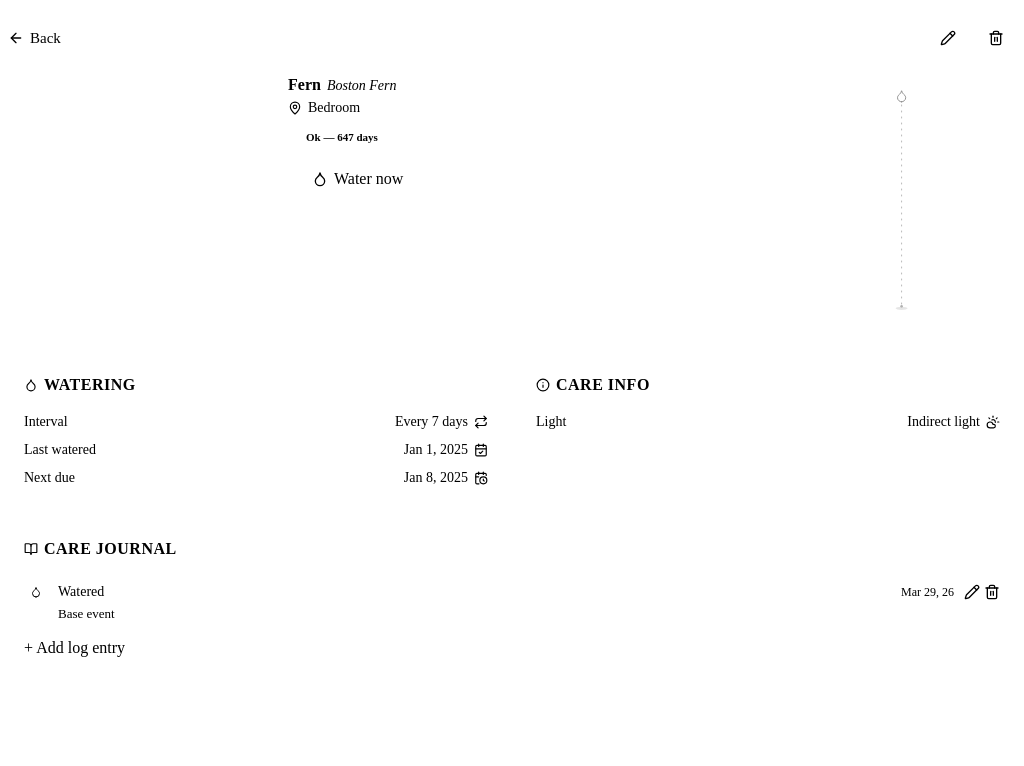
Scenario: care timeline integration › closes a saved add form before its pending refresh is superseded by water
Expected: the text "Base event" is shown, x1=58 y1=606 x2=115 y2=621
What coordinates should you click on to do the following:
click the button "+ Add log entry"
I would click on:
 (74, 648)
Its box is x1=24 y1=638 x2=125 y2=657.
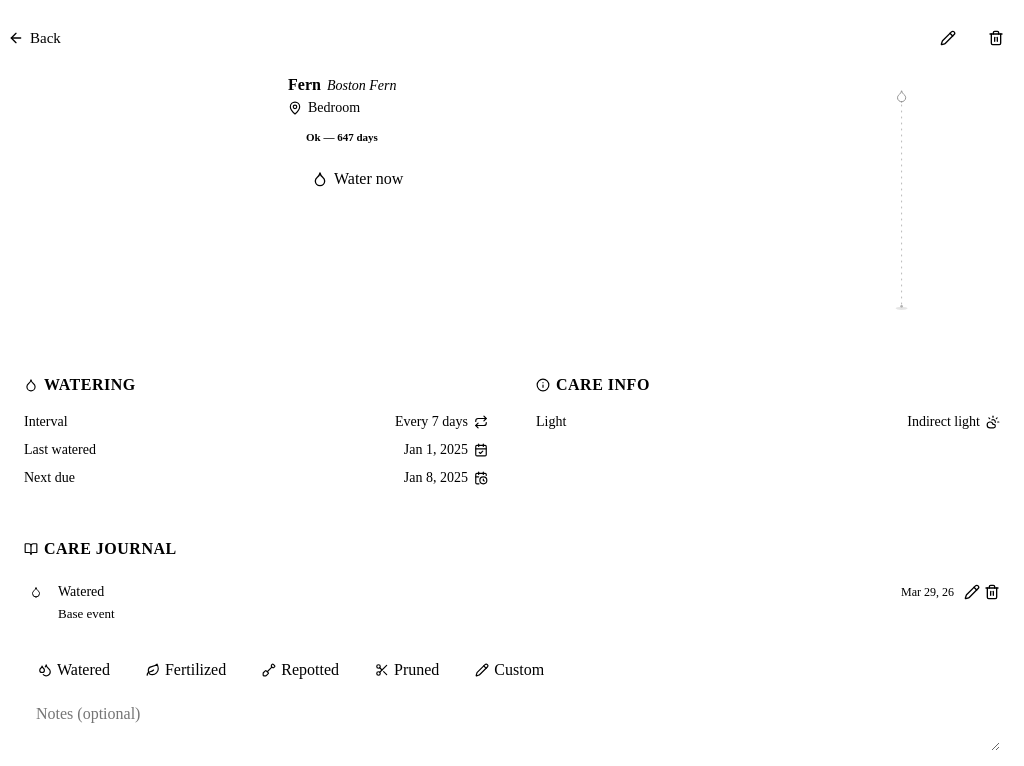
What coordinates should you click on to do the following:
click the button "Watered"
I would click on:
 (74, 670)
Its box is x1=24 y1=654 x2=124 y2=685.
(page scrolled)
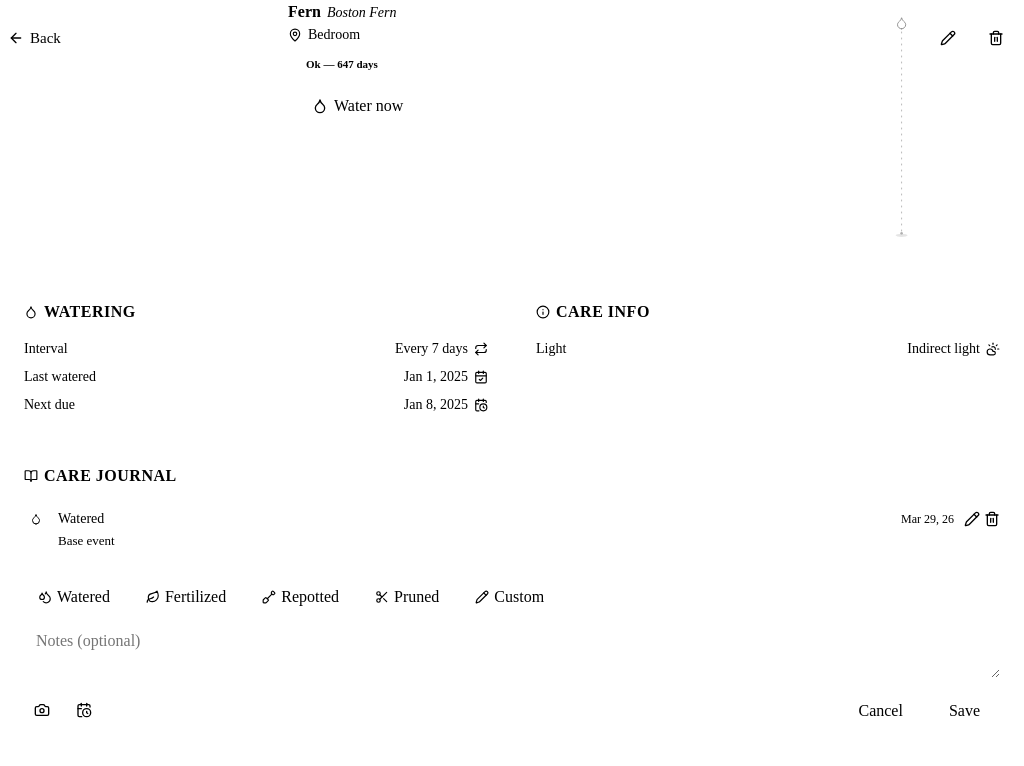
What coordinates should you click on to do the following:
click the button "Save"
I would click on:
 (964, 710)
Its box is x1=929 y1=693 x2=1000 y2=728.
(page scrolled)
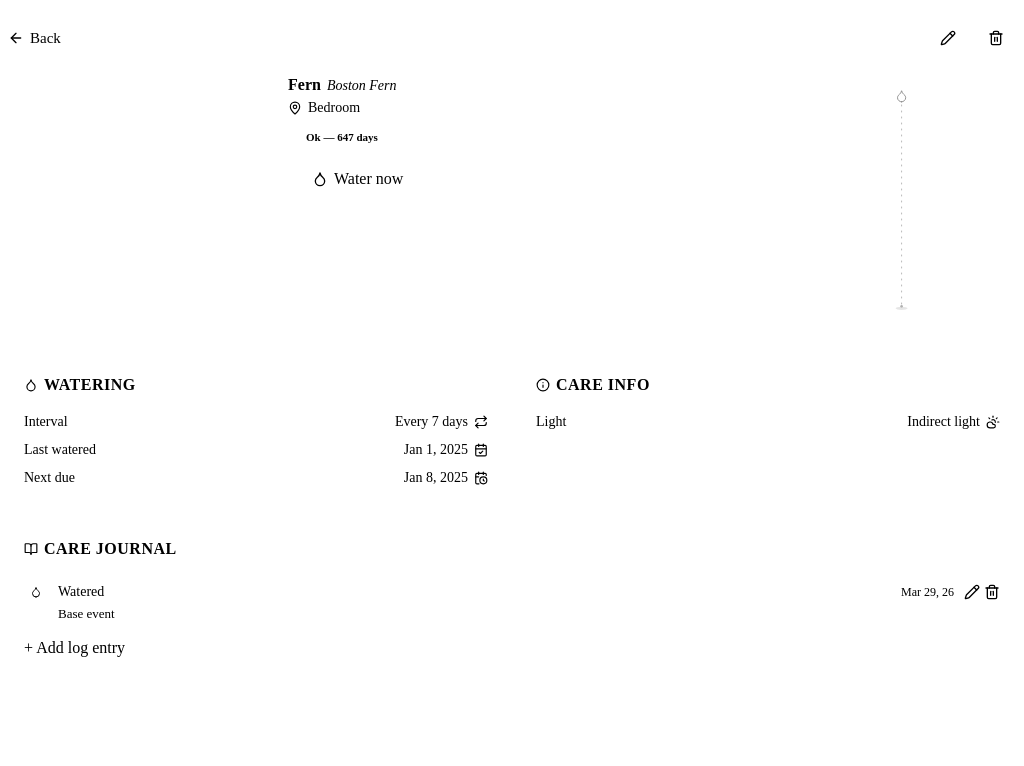
Expected: the element with class "care-entry-form" is gone
What coordinates should you click on to do the following:
click the button "Water now"
I would click on:
 (358, 179)
Its box is x1=288 y1=159 x2=427 y2=198.
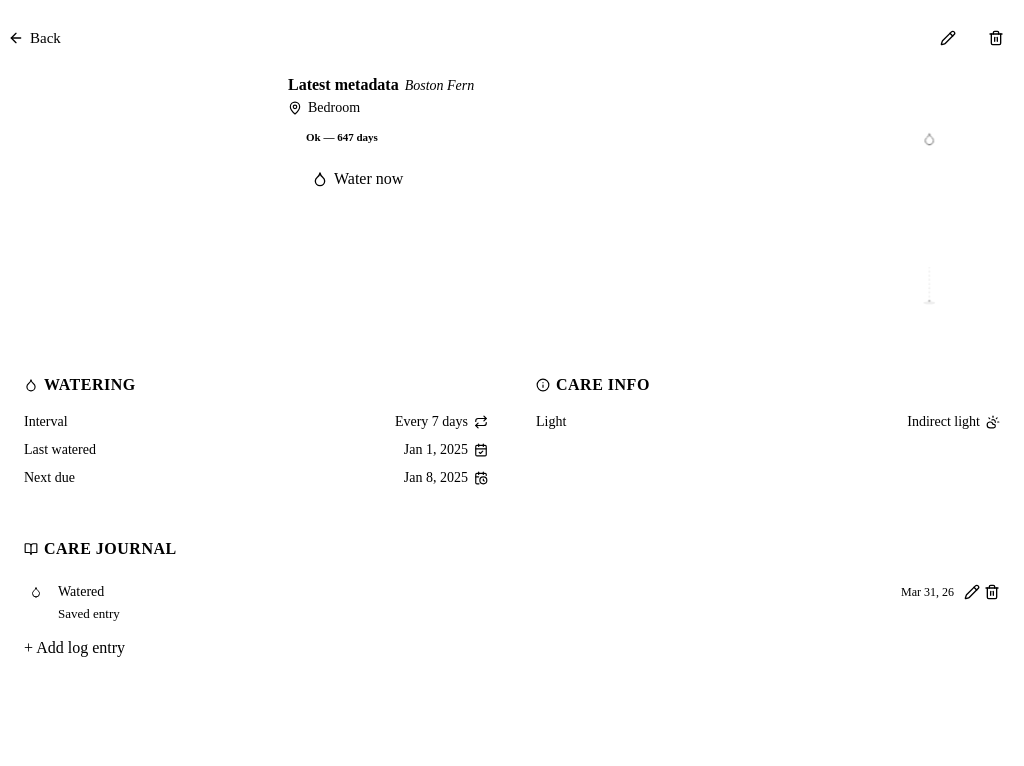
Expected: the button "+ Add log entry" is shown, x1=24 y1=638 x2=125 y2=657
Expected: the heading "Latest metadata" is shown, x1=288 y1=76 x2=399 y2=94
Expected: the text "Saved entry" is shown, x1=58 y1=606 x2=120 y2=621
